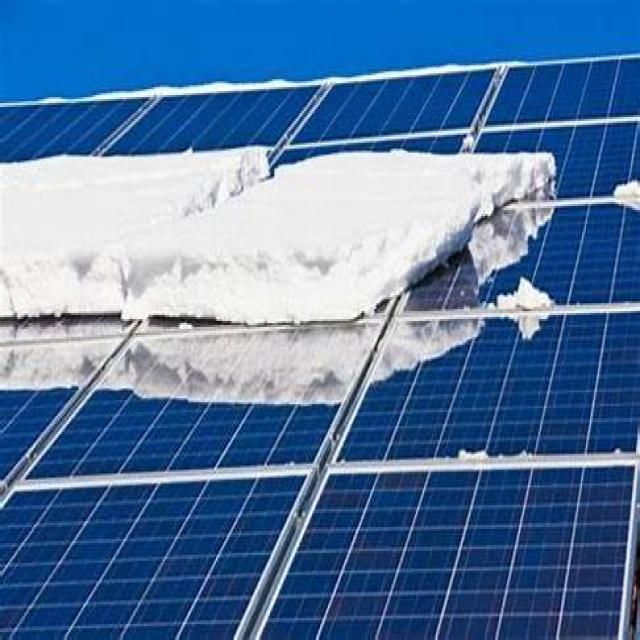snow covered: (0, 60, 637, 637)
